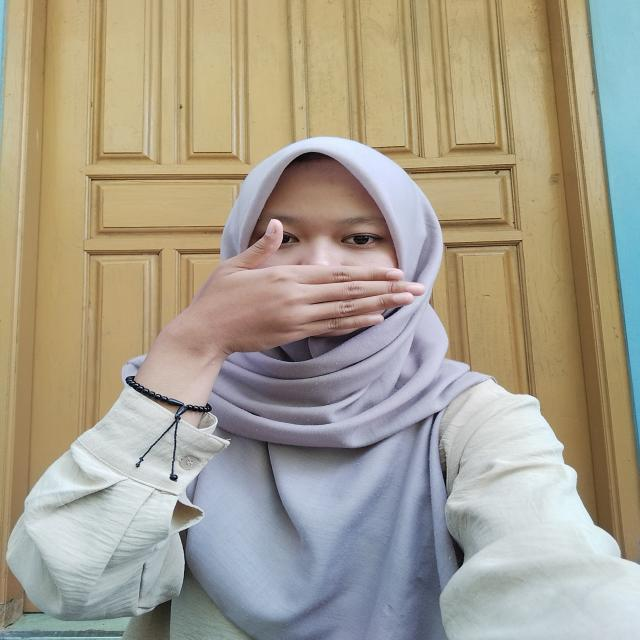buruk: (142, 208, 430, 354)
